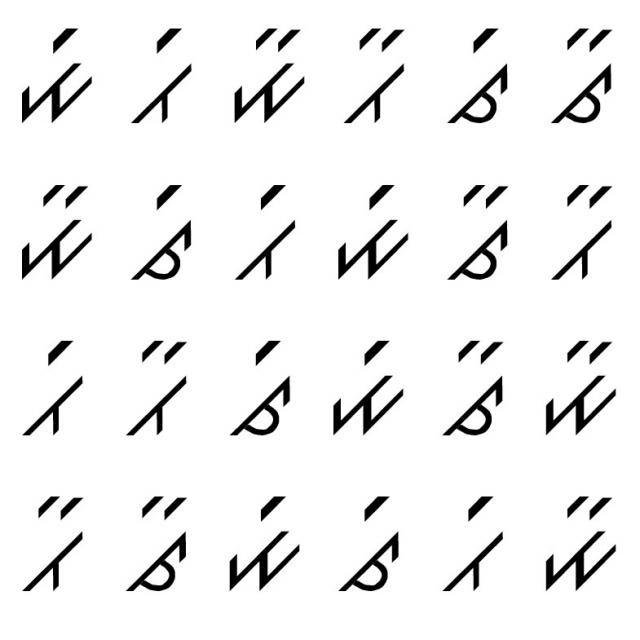ban: (117, 336, 202, 444), (11, 483, 88, 596), (342, 20, 415, 130), (549, 179, 618, 282)
bang: (230, 180, 305, 288), (20, 334, 91, 442), (439, 491, 508, 593), (128, 23, 196, 125)
can: (437, 329, 514, 444), (121, 492, 197, 598), (546, 24, 622, 128), (444, 177, 514, 281)
cang: (445, 24, 519, 131), (225, 339, 302, 440), (338, 489, 405, 598), (127, 179, 198, 281)
man: (530, 487, 623, 595), (534, 334, 620, 447), (10, 180, 97, 286), (228, 22, 314, 127)
mang: (317, 336, 410, 443), (222, 487, 306, 604), (329, 178, 415, 284), (13, 24, 97, 124)
